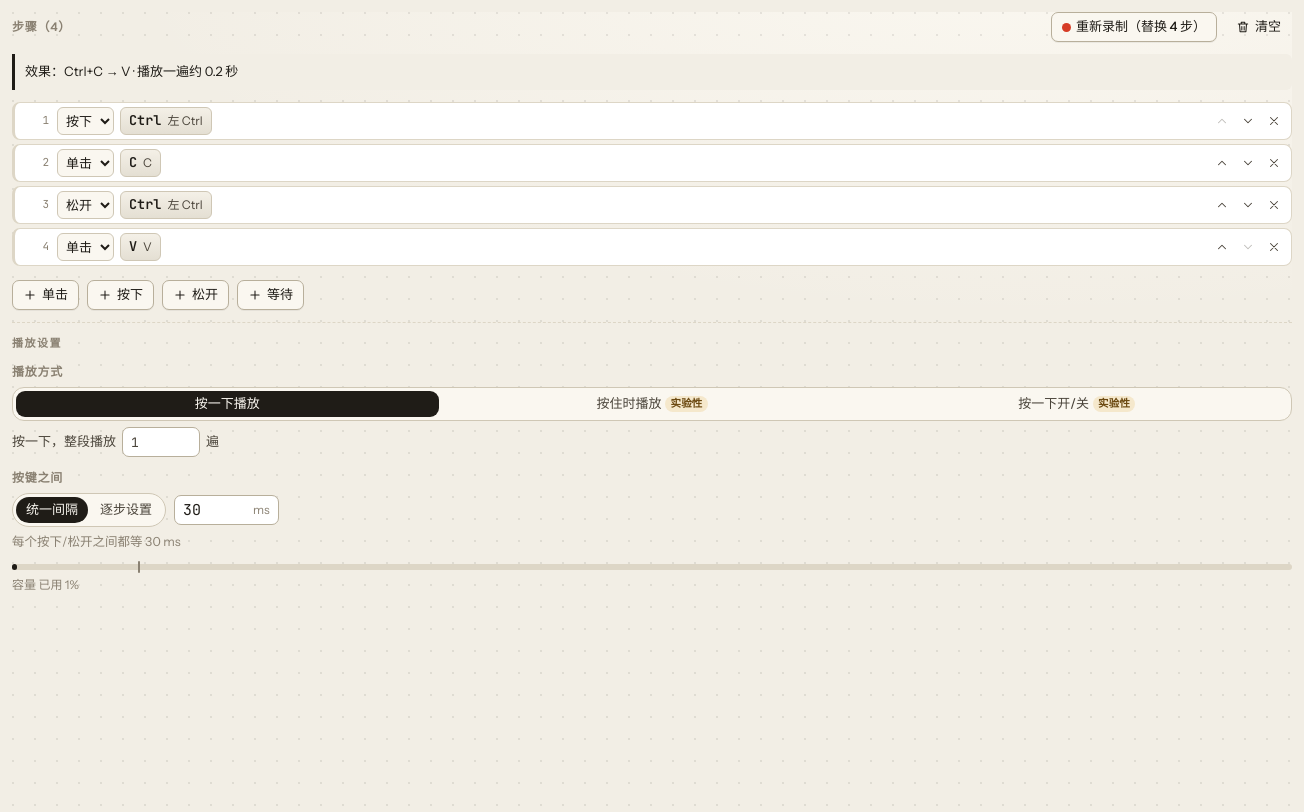
Scenario: MacroEditor › puts the repeat count in the sentence and marks the untested play modes
This screenshot has width=1304, height=812.
Replace the text in the number field named "播放遍数" with "3" at {"x": 161, "y": 442}, box top-left (123, 428), bottom-right (199, 456)
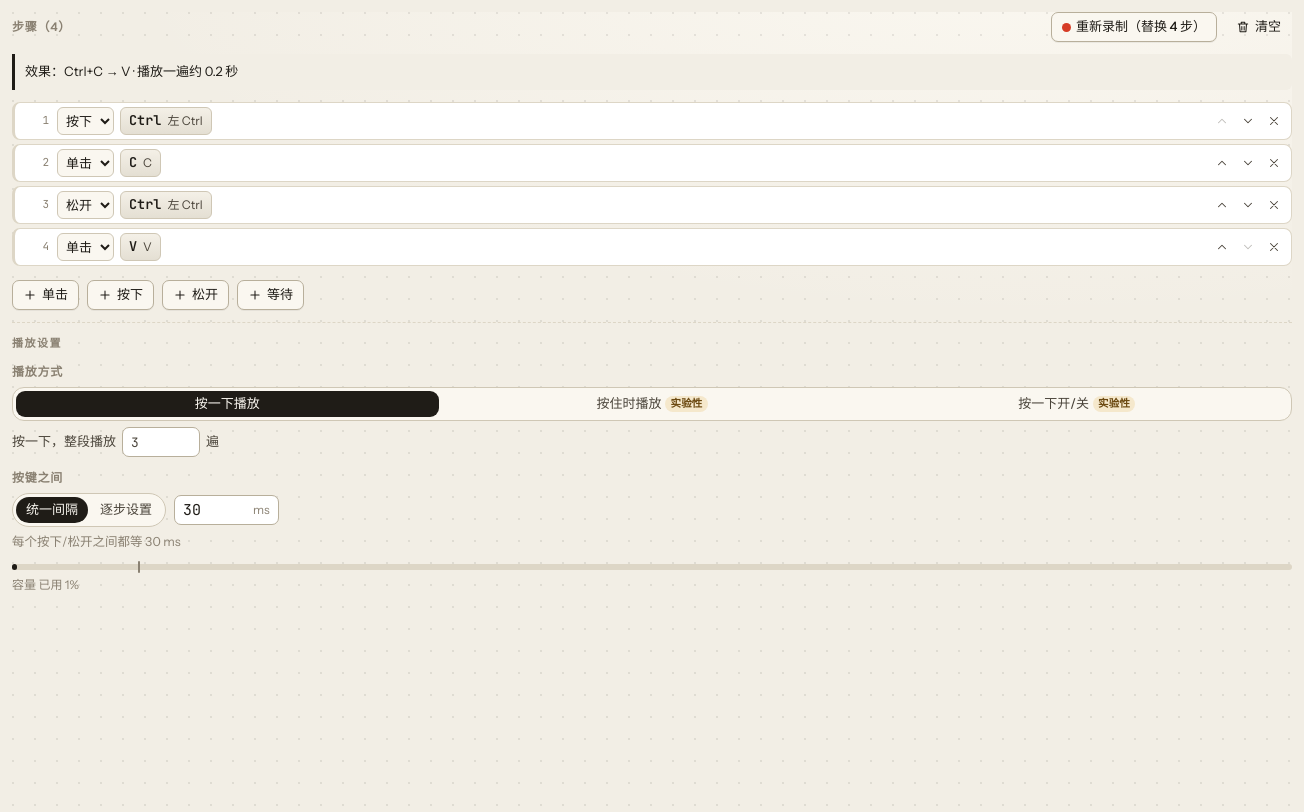
Click the radio button labelled "按住时播放 实验性" at {"x": 652, "y": 404}, box top-left (441, 391), bottom-right (863, 417)
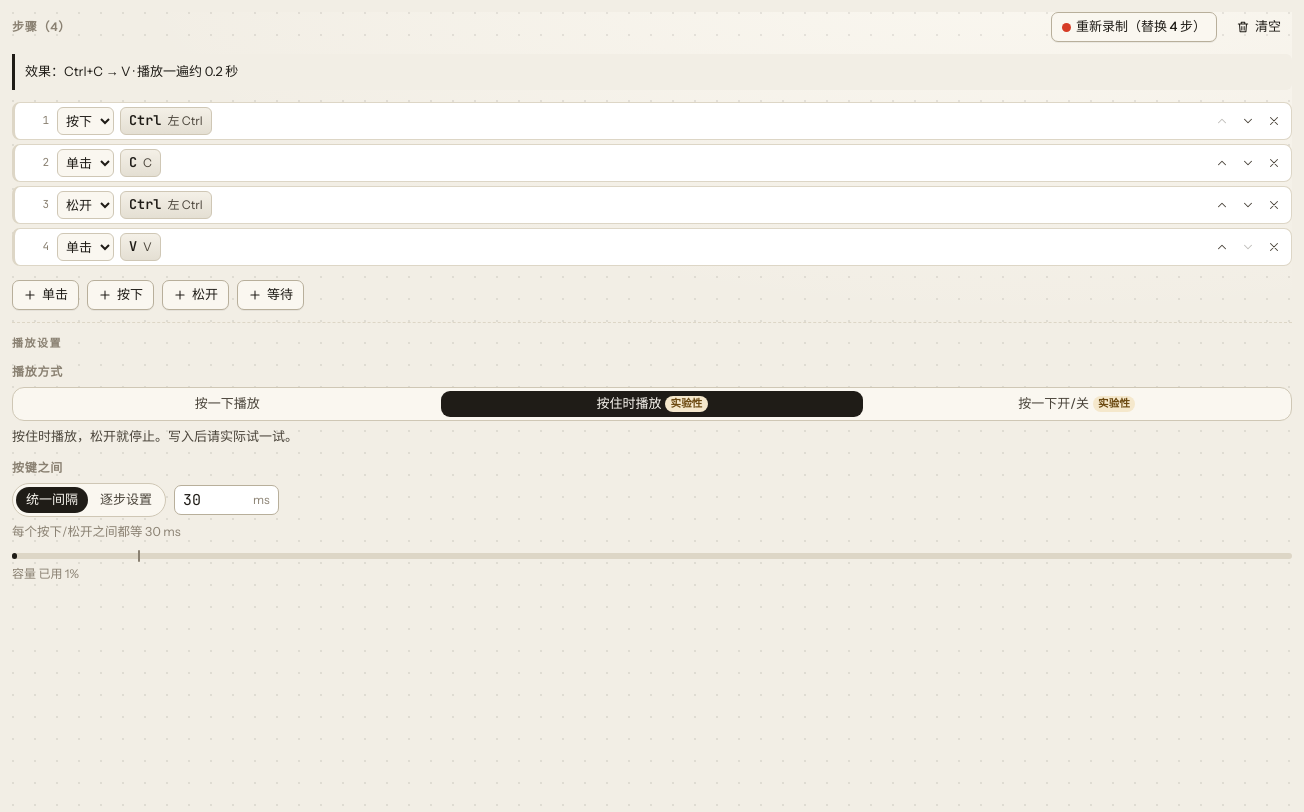
Now the text "按住时播放，松开就停止。写入后请实际试一试。" is shown, box top-left (12, 428), bottom-right (298, 444)
Now the number field labelled "播放遍数" is gone
